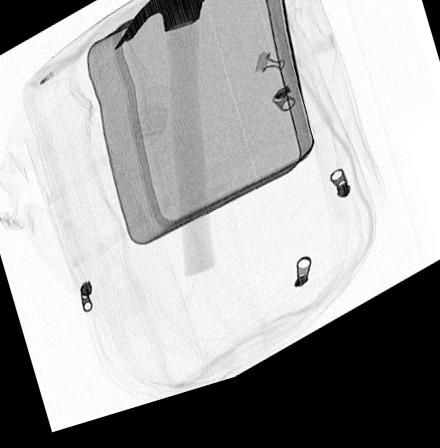Hammer: (112, 0, 244, 288)
